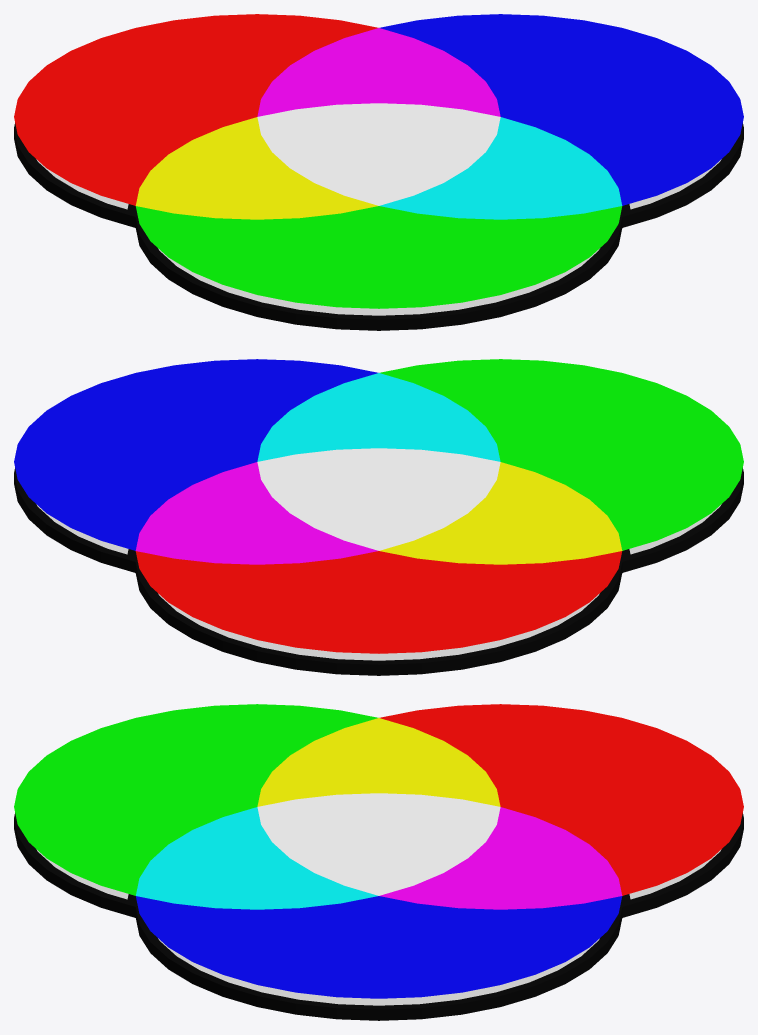
Rendered from Venn Diagram 3-Set.fbx.
3 views of the same model, one above another, from view 1: azimuth 30°, elevation 25°; view 2: azimuth 150°, elevation 25°; view 3: azimuth 270°, elevation 25° (orthographic).
Parts seen in each view (by area): view 1: Venn Diagram B, Venn Diagram A, Venn Diagram C, Venn Diagram ABC, Venn Diagram FullOutlines, Venn Diagram AC, Venn Diagram BC, Venn Diagram AB, Venn Diagram Full; view 2: Venn Diagram A, Venn Diagram B, Venn Diagram C, Venn Diagram ABC, Venn Diagram FullOutlines, Venn Diagram AC, Venn Diagram BC, Venn Diagram AB, Venn Diagram Full; view 3: Venn Diagram C, Venn Diagram B, Venn Diagram A, Venn Diagram ABC, Venn Diagram FullOutlines, Venn Diagram AC, Venn Diagram AB, Venn Diagram BC, Venn Diagram Full.
Boxes of the visible parts, <box> form: Venn Diagram B: <box>135,206,622,308</box>; Venn Diagram A: <box>14,14,378,205</box>; Venn Diagram C: <box>379,14,743,205</box>; Venn Diagram ABC: <box>257,103,500,205</box>; Venn Diagram FullOutlines: <box>14,123,743,330</box>; Venn Diagram AC: <box>257,28,500,116</box>; Venn Diagram BC: <box>380,117,622,219</box>; Venn Diagram AB: <box>135,117,377,219</box>; Venn Diagram Full: <box>36,159,721,315</box>; Venn Diagram A: <box>135,551,622,653</box>; Venn Diagram B: <box>379,359,743,550</box>; Venn Diagram C: <box>14,359,378,550</box>; Venn Diagram ABC: <box>257,448,500,550</box>; Venn Diagram FullOutlines: <box>14,468,743,675</box>; Venn Diagram AC: <box>135,462,378,564</box>; Venn Diagram BC: <box>257,373,500,461</box>; Venn Diagram AB: <box>380,462,622,564</box>; Venn Diagram Full: <box>36,504,721,660</box>; Venn Diagram C: <box>136,896,622,998</box>; Venn Diagram B: <box>14,704,378,895</box>; Venn Diagram A: <box>379,704,743,895</box>; Venn Diagram ABC: <box>257,793,500,895</box>; Venn Diagram FullOutlines: <box>14,813,743,1020</box>; Venn Diagram AC: <box>380,807,622,909</box>; Venn Diagram AB: <box>257,718,500,806</box>; Venn Diagram BC: <box>136,807,377,909</box>; Venn Diagram Full: <box>36,849,721,1005</box>.
Bounding box in the file's own units: 287 × 10 × 300.
